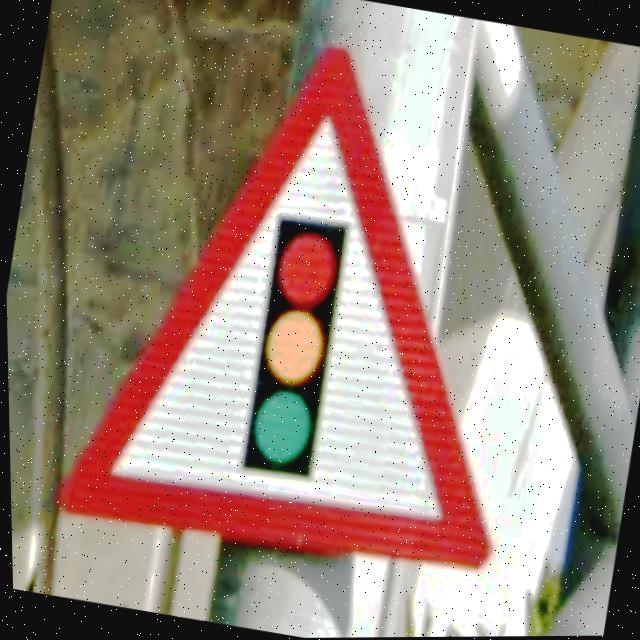signalahead: (58, 46, 491, 570)
